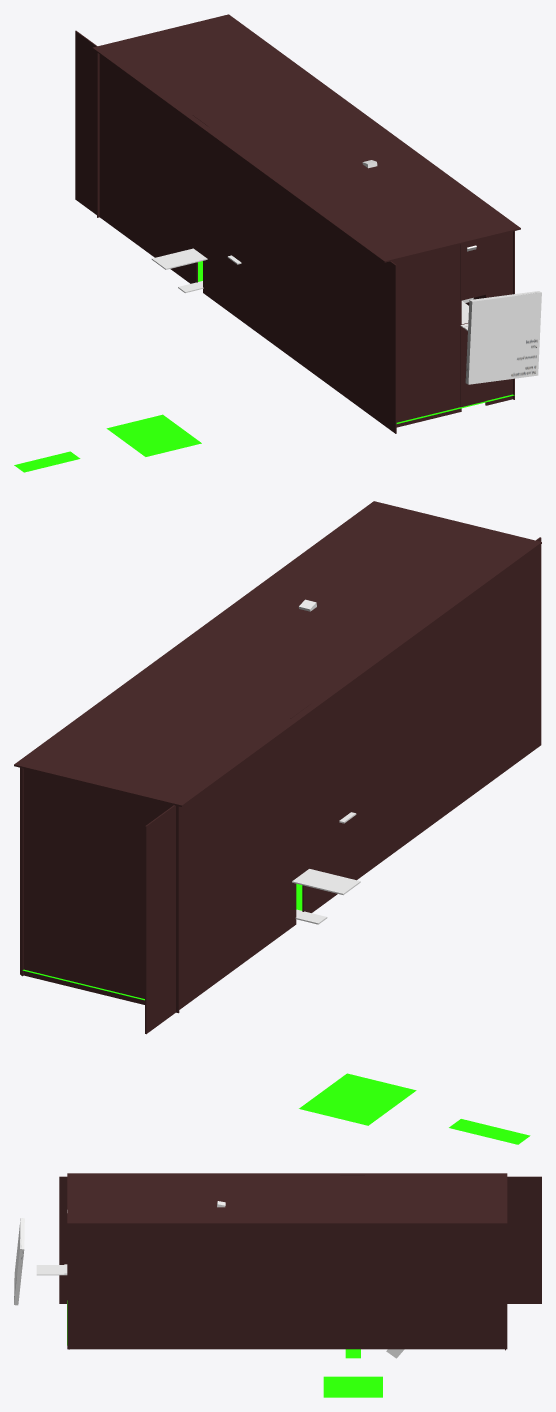
Rendered from Level 1.fbx.
3 renders of one model, top to bottom at view 1: azimuth 30°, elevation 25°; view 2: azimuth 150°, elevation 25°; view 3: azimuth 270°, elevation 25°, orthographic. The views are drawn at different scales.
Parts seen in each view (by area): view 1: Cube__66_, Cube__62_, Cube__63_, Cube__60_, Cube__36_, Cube__30_, Acid__2_, Cube__61_, Cube__67_, Cube__15_, Cube__7_, Acid__1_; view 2: Cube__66_, Cube__62_, Cube__63_, Cube__65_, Acid__2_, Cube__67_, Cube__7_, Acid__1_; view 3: Cube__64_, Cube__66_, Cube__63_, Acid__2_, Cube__62_, Cube__36_, Cube__31_.
Part boxes in pixels (x1,y1,x2,y2): Cube__66_: (92, 14, 520, 262); Cube__62_: (203, 130, 396, 433); Cube__63_: (75, 30, 197, 283); Cube__60_: (391, 244, 461, 427); Cube__36_: (465, 291, 541, 384); Cube__30_: (485, 231, 512, 405); Acid__2_: (106, 414, 201, 456); Cube__61_: (460, 238, 486, 300); Cube__67_: (192, 115, 209, 254); Cube__15_: (460, 323, 486, 407); Cube__7_: (151, 248, 207, 269); Acid__1_: (14, 451, 80, 472); Cube__66_: (14, 501, 541, 806); Cube__62_: (302, 537, 541, 912); Cube__63_: (145, 727, 296, 1034); Cube__65_: (20, 767, 179, 1013); Acid__2_: (299, 1073, 416, 1125); Cube__67_: (290, 703, 310, 884); Cube__7_: (292, 869, 360, 895); Acid__1_: (449, 1119, 530, 1144); Cube__64_: (67, 1224, 507, 1349); Cube__66_: (67, 1173, 507, 1224); Cube__63_: (507, 1176, 541, 1303); Acid__2_: (323, 1376, 382, 1397); Cube__62_: (59, 1176, 67, 1303); Cube__36_: (14, 1218, 24, 1305); Cube__31_: (36, 1265, 67, 1275).
Size of the model in its own units: 6165 by 5808 by 11996.
